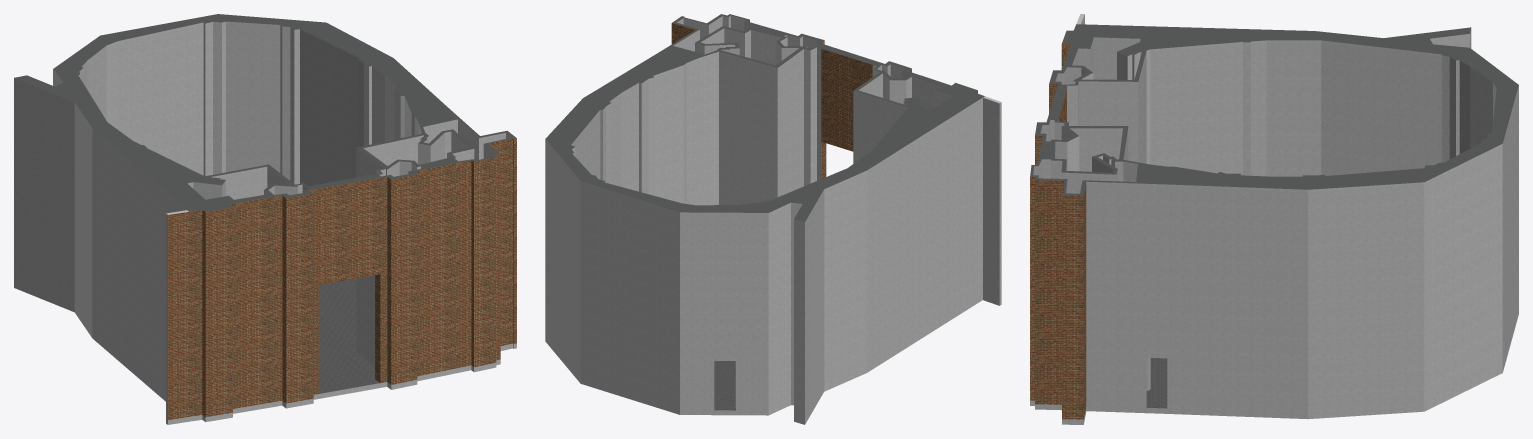
Rendered from ChiesaSuffragio.glb.
3 renders of one model, left to right at view 1: azimuth 30°, elevation 25°; view 2: azimuth 150°, elevation 25°; view 3: azimuth 270°, elevation 25°, orthographic. The views are drawn at different scales.
Visible parts, largest first — view 1: 3DGeom-3, 3DGeom-4, 3DGeom-5, 3DGeom-9, 3DGeom-6, 3DGeom-8, 3DGeom-1, 3DGeom-7, 3DGeom-2; view 2: 3DGeom-3, 3DGeom-6, 3DGeom-5, 3DGeom-4, 3DGeom-1, 3DGeom-8, 3DGeom-9, 3DGeom-7, 3DGeom-2; view 3: 3DGeom-3, 3DGeom-5, 3DGeom-4, 3DGeom-1, 3DGeom-6, 3DGeom-8, 3DGeom-9, 3DGeom-7, 3DGeom-2.
Boxes of the visible parts, x1,y1,x2,y2 form: 3DGeom-3: (14, 21, 510, 419); 3DGeom-4: (168, 138, 516, 419); 3DGeom-5: (14, 14, 516, 211); 3DGeom-9: (318, 278, 379, 393); 3DGeom-6: (356, 131, 474, 365); 3DGeom-8: (14, 283, 516, 424); 3DGeom-1: (187, 166, 297, 199); 3DGeom-7: (357, 129, 473, 169); 3DGeom-2: (182, 164, 297, 201); 3DGeom-3: (545, 15, 1001, 419); 3DGeom-6: (695, 28, 807, 204); 3DGeom-5: (545, 14, 984, 222); 3DGeom-4: (671, 17, 977, 178); 3DGeom-1: (853, 73, 952, 163); 3DGeom-8: (545, 295, 1001, 424); 3DGeom-9: (714, 361, 735, 410); 3DGeom-7: (695, 26, 806, 67); 3DGeom-2: (853, 70, 958, 112); 3DGeom-3: (1033, 14, 1518, 413); 3DGeom-5: (1030, 24, 1518, 195); 3DGeom-4: (1030, 44, 1086, 419); 3DGeom-1: (1067, 37, 1146, 163); 3DGeom-6: (1050, 126, 1128, 193); 3DGeom-8: (1030, 309, 1518, 424); 3DGeom-9: (1077, 358, 1167, 419); 3DGeom-7: (1050, 126, 1128, 174); 3DGeom-2: (1067, 35, 1146, 81).
Bounding box in the file's own units: 14.36 × 8.46 × 16.34.
Materials: 4 (3 with a texture image).
